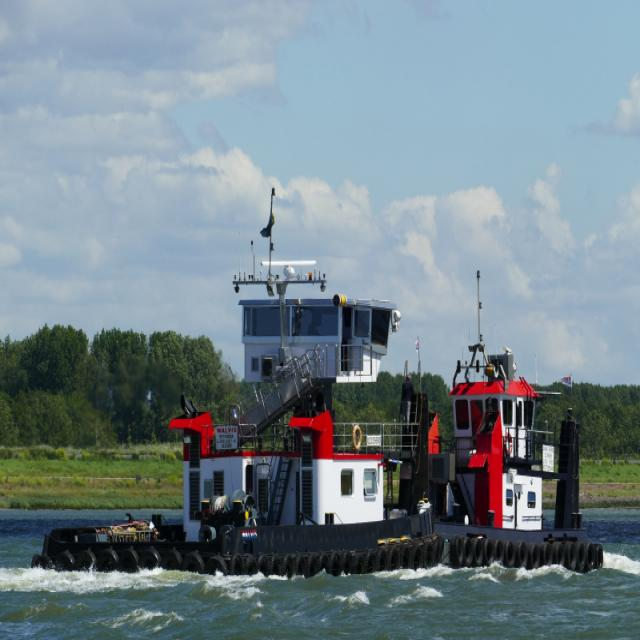tugboat: (27, 256, 449, 593), (407, 340, 615, 587)
